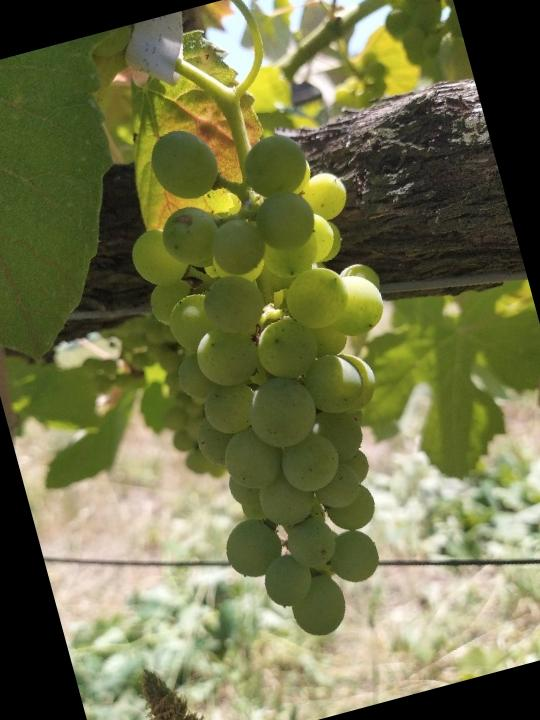grape: (103, 89, 469, 660)
